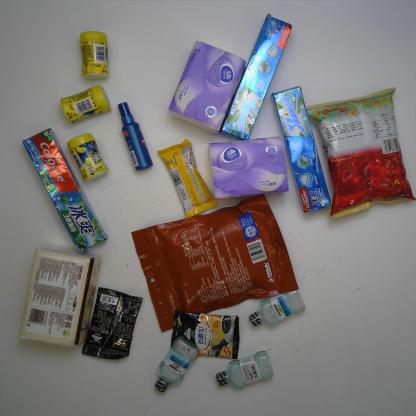Chocolate: (154, 136, 219, 221)
Dried Food: (129, 190, 302, 336)
Gum: (66, 131, 110, 183), (59, 83, 113, 125), (77, 30, 111, 82)
Instant Drink: (80, 284, 144, 363), (169, 308, 242, 362)
Personal Hygiene: (20, 125, 111, 256), (220, 11, 294, 144), (268, 82, 334, 214), (116, 100, 155, 173), (153, 336, 201, 394), (214, 350, 276, 390), (248, 288, 308, 328)
Puffed Food: (301, 84, 416, 220)
Tissue: (17, 245, 104, 350), (164, 37, 248, 137), (206, 133, 292, 201)
